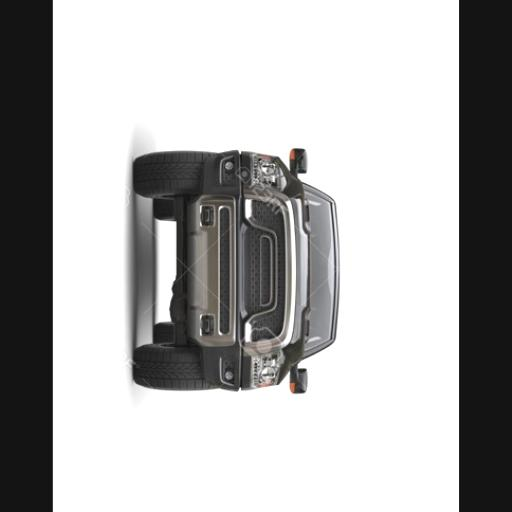truck: (133, 149, 337, 391)
